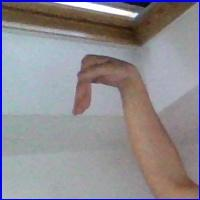del: (68, 50, 144, 125)
